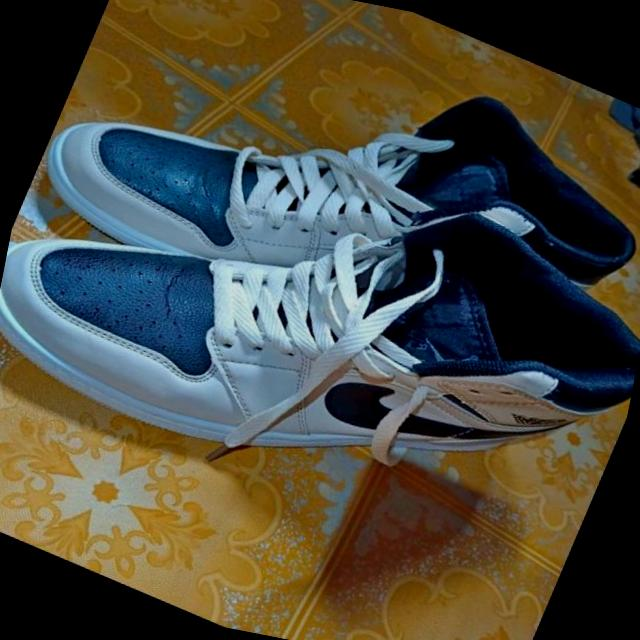nike_fake_jordan: (0, 35, 640, 612), (0, 0, 640, 441)
